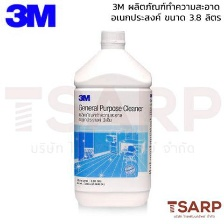cleaning_solution: (69, 26, 155, 210)
